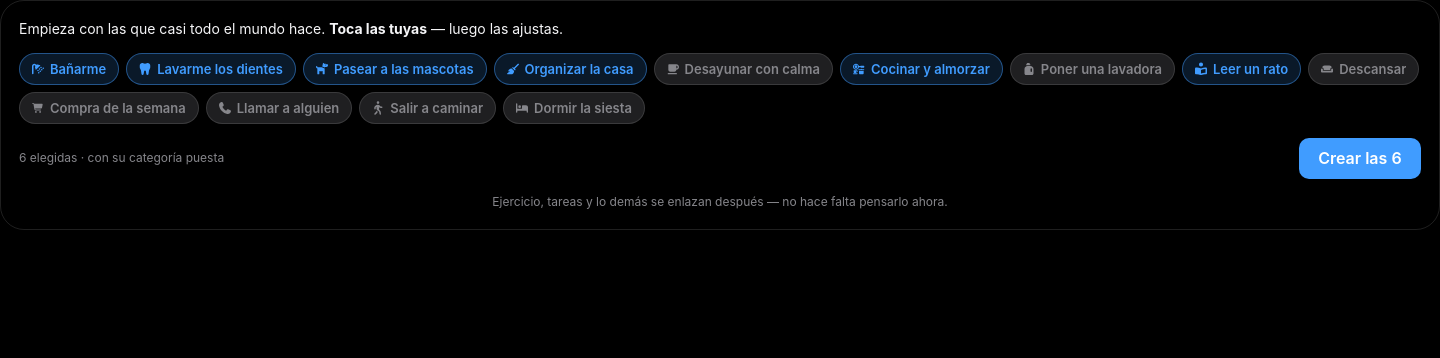
Test: VidaStartingPoints › si algo falla a mitad lo nombra y deja marcado solo lo que no se creó
Click the button "Crear las 6" at (1360, 158), box [1299,138,1421,179]
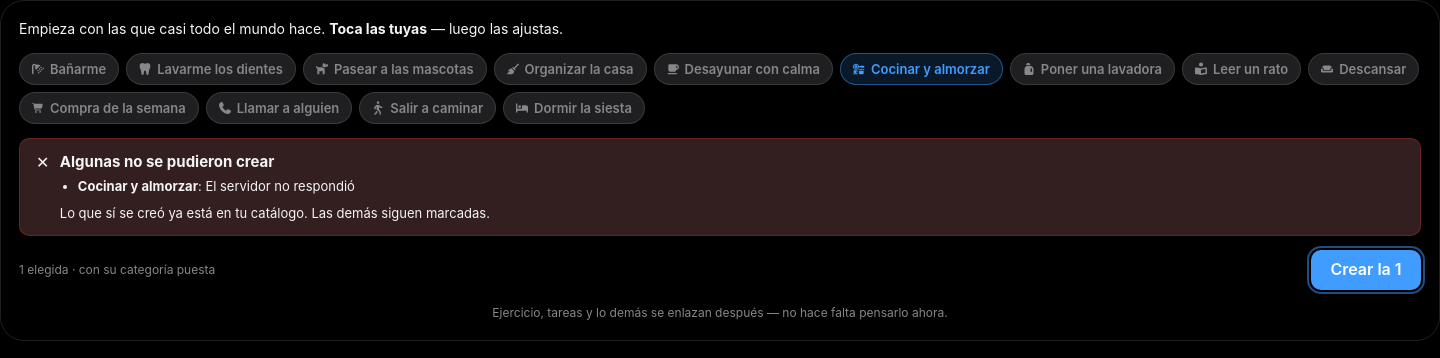
Check: the text "Algunas no se pudieron crear" is shown, box [60,152,274,171]
Check: the list item "Cocinar y almorzar: El servidor no respondió" is shown, box [78,178,355,194]
Check: the button "Crear la 1" is shown, box [1311,250,1421,290]
